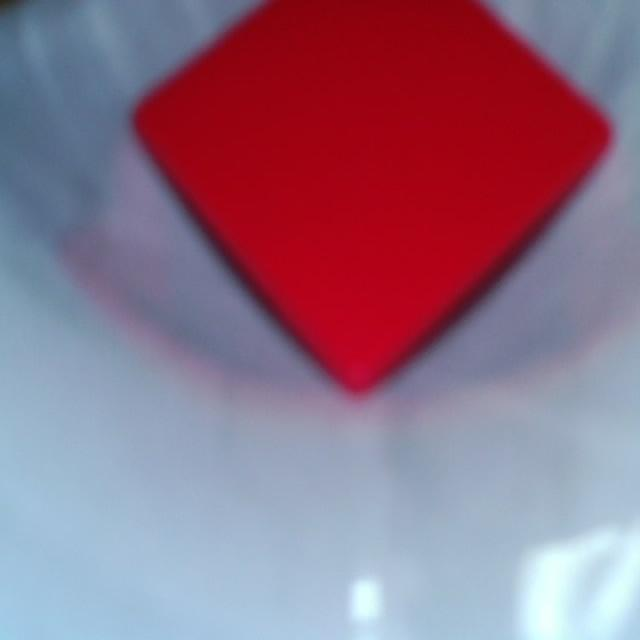square: (136, 0, 607, 389)
